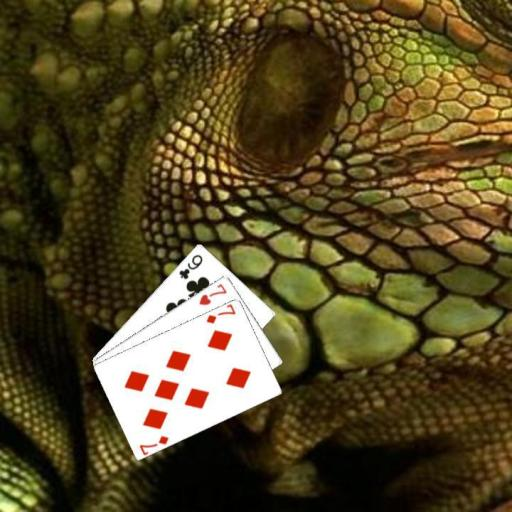7D: (203, 301, 237, 325), (136, 432, 170, 455)
7H: (196, 280, 228, 307)
9C: (176, 251, 204, 280)
